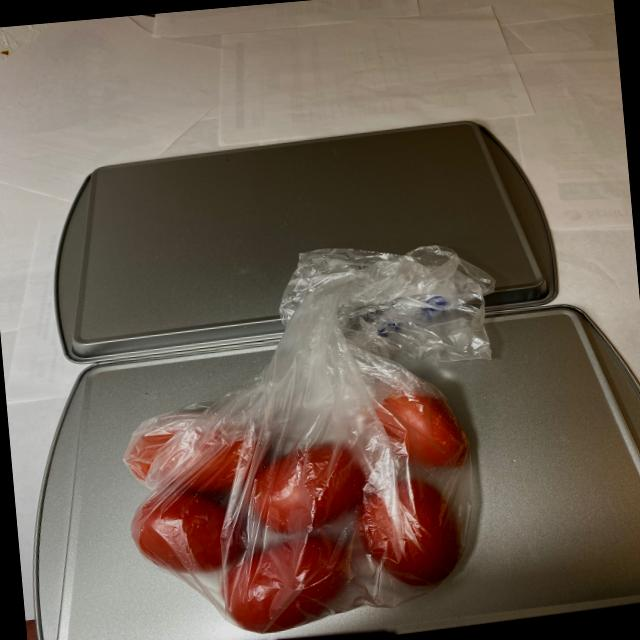tomato: (117, 370, 494, 640)
